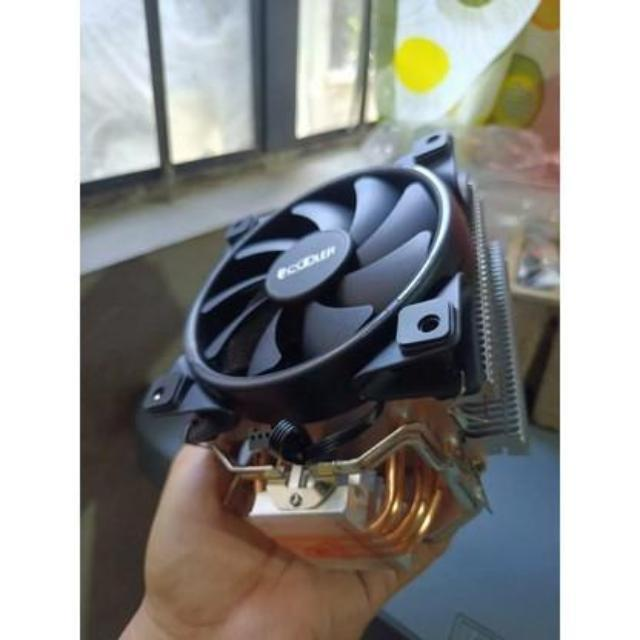CPU_Fan: (146, 133, 529, 564)
